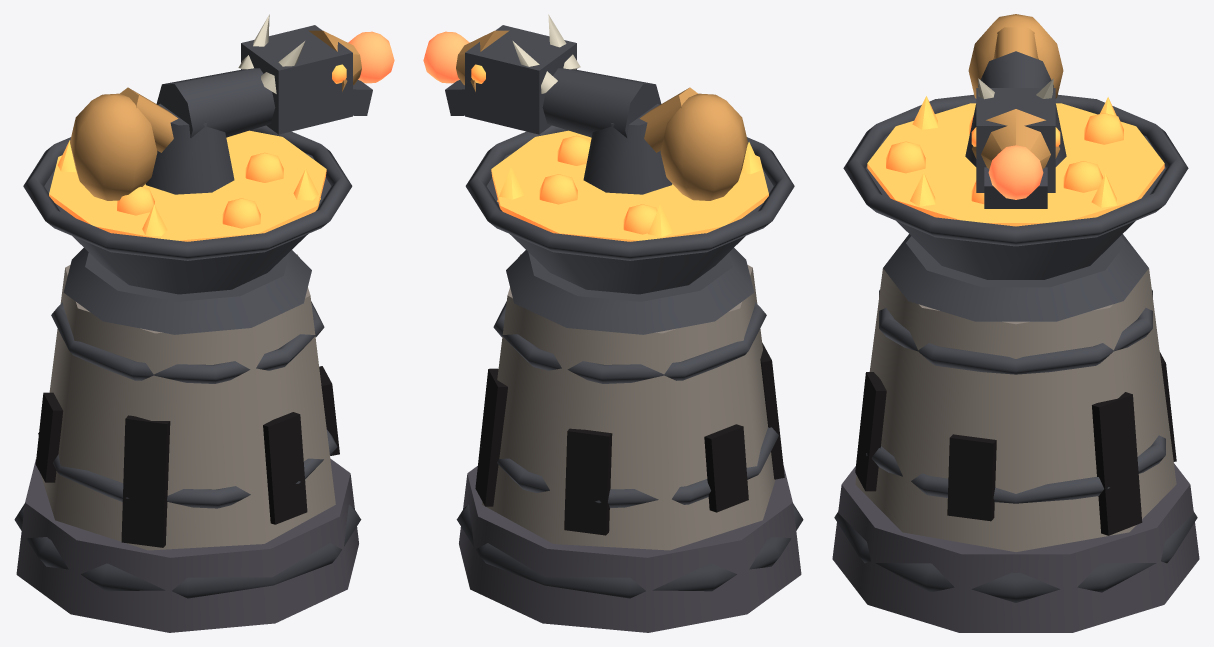
Rendered from tower_flame_inferno.glb.
3 views of the same model, side by side, from view 1: azimuth 30°, elevation 25°; view 2: azimuth 150°, elevation 25°; view 3: azimuth 270°, elevation 25° (orthographic). The views are drawn at different scales.
Parts seen in each view (by area): view 1: body, base, coals, brazier_foot, brazier_lip, dragon_head, gas_tank, brazier_bowl, soot_2, neck, soot_ring, nozzle_post (+12 smaller); view 2: body, base, coals, brazier_foot, brazier_lip, dragon_head, gas_tank, brazier_bowl, neck, soot_ring, soot_4, nozzle_post (+12 smaller); view 3: body, base, coals, brazier_foot, brazier_lip, brazier_bowl, soot_5, body_band_0.3, soot_ring, soot_0, dragon_head, body_band_0.15 (+14 smaller).
Part boxes in pixels (bbox=[...]): body: bbox=[41, 254, 335, 550]; base: bbox=[16, 458, 358, 632]; coals: bbox=[49, 130, 326, 241]; brazier_foot: bbox=[63, 248, 311, 334]; brazier_lip: bbox=[23, 125, 352, 260]; dragon_head: bbox=[241, 25, 352, 134]; gas_tank: bbox=[70, 93, 157, 200]; brazier_bowl: bbox=[44, 152, 331, 294]; soot_2: bbox=[121, 415, 170, 547]; neck: bbox=[156, 68, 275, 137]; soot_ring: bbox=[14, 503, 361, 598]; nozzle_post: bbox=[145, 103, 234, 194]; body: bbox=[482, 254, 775, 550]; base: bbox=[459, 466, 801, 632]; coals: bbox=[491, 130, 768, 241]; brazier_foot: bbox=[506, 248, 754, 334]; brazier_lip: bbox=[465, 125, 794, 260]; dragon_head: bbox=[465, 25, 576, 134]; gas_tank: bbox=[660, 93, 747, 200]; brazier_bowl: bbox=[486, 152, 773, 294]; neck: bbox=[542, 68, 661, 137]; soot_ring: bbox=[456, 503, 803, 598]; soot_4: bbox=[564, 428, 612, 535]; nozzle_post: bbox=[583, 103, 672, 194]; body: bbox=[855, 268, 1176, 551]; base: bbox=[832, 463, 1199, 632]; coals: bbox=[867, 103, 1164, 226]; brazier_foot: bbox=[883, 234, 1148, 321]; brazier_lip: bbox=[843, 94, 1188, 246]; brazier_bowl: bbox=[865, 135, 1166, 279]; soot_5: bbox=[1092, 392, 1142, 535]; body_band_0.3: bbox=[879, 290, 1152, 374]; soot_ring: bbox=[834, 511, 1197, 602]; soot_0: bbox=[947, 434, 996, 521]; dragon_head: bbox=[976, 88, 1055, 192]; body_band_0.15: bbox=[866, 435, 1165, 503].
Bounding box in the file's own units: 0.4671 × 0.6397 × 0.4.
